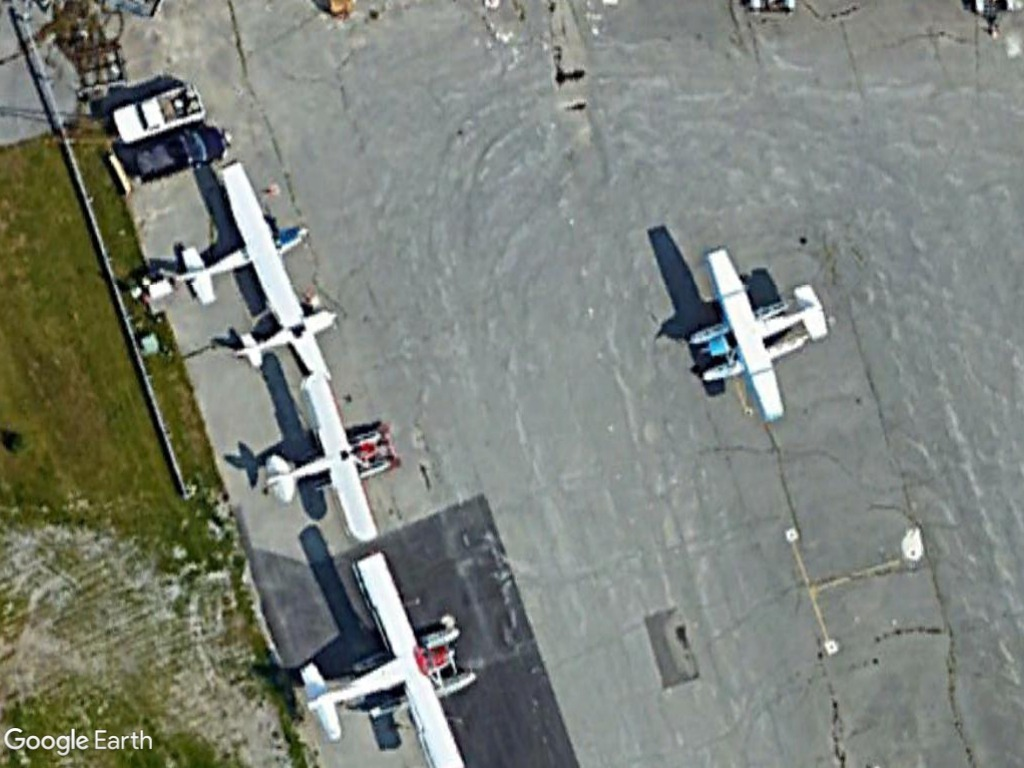car: (130, 119, 230, 186)
other: (107, 82, 210, 145)
trainer: (164, 157, 321, 326), (260, 363, 401, 545), (233, 286, 344, 382)
